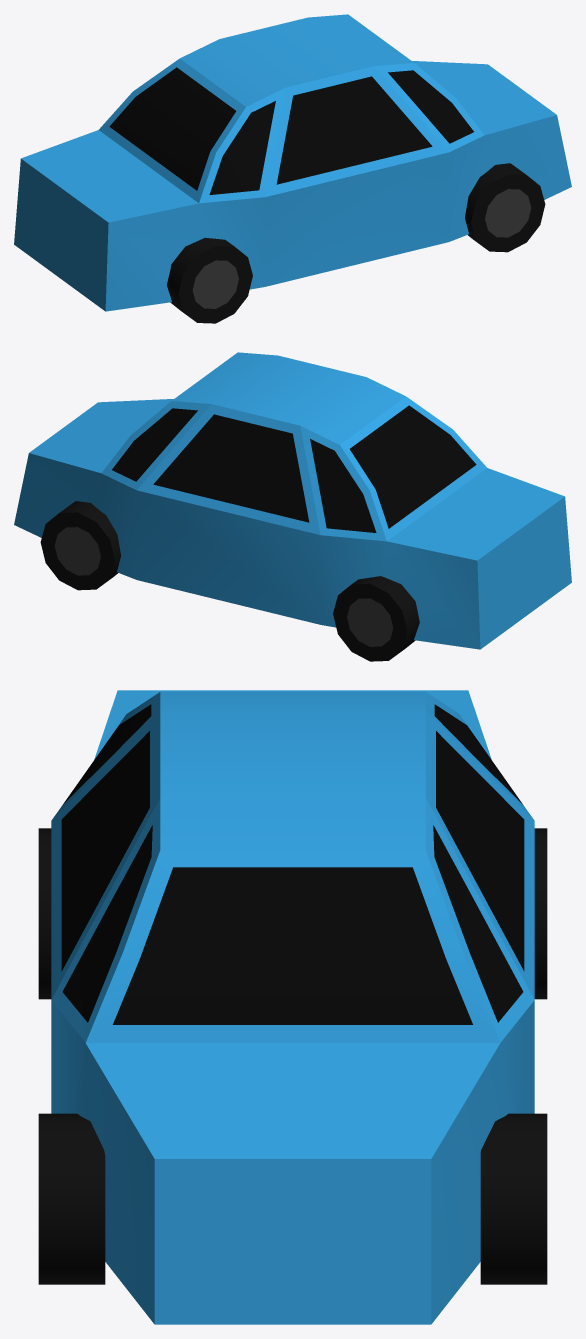
The model's file is Car_Blue.FBX.
The picture shows the model from 3 angles, top to bottom: view 1: azimuth 30°, elevation 25°; view 2: azimuth 150°, elevation 25°; view 3: azimuth 270°, elevation 25°; orthographic projection. The views are drawn at different scales.
Parts seen in each view (by area): view 1: Car_Blue; view 2: Car_Blue; view 3: Car_Blue.
Part boxes in pixels (x1,y1,x2,y2): Car_Blue: (14,14,571,323); Car_Blue: (14,352,571,661); Car_Blue: (38,690,547,1324).
Size of the model in its own units: 749 by 283 by 345.
